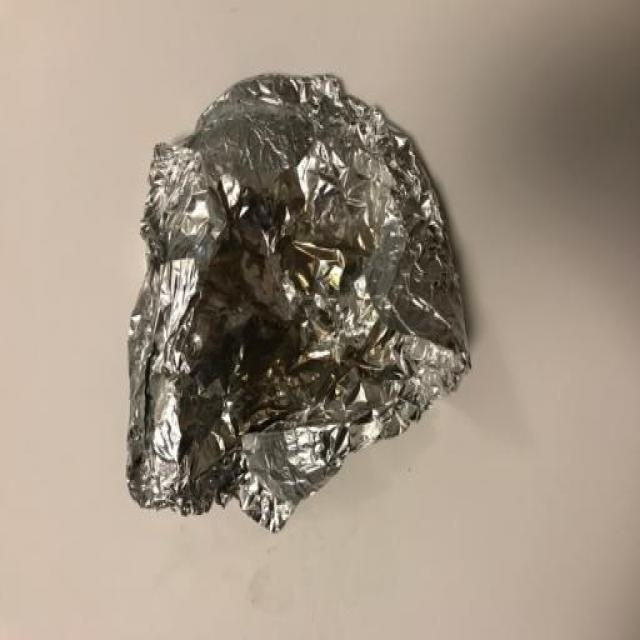plastic_bag: (103, 51, 501, 531)
